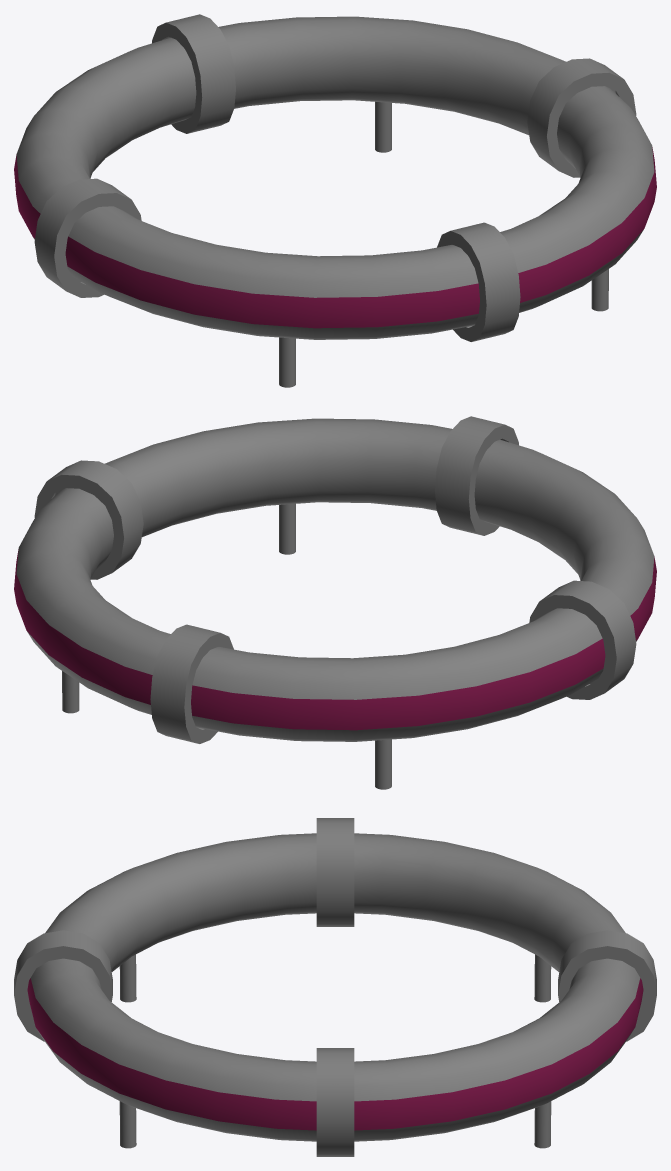
The model's file is Particle collider.fbx.
3 renders of one model, top to bottom at view 1: azimuth 30°, elevation 25°; view 2: azimuth 150°, elevation 25°; view 3: azimuth 270°, elevation 25°, orthographic. The views are drawn at different scales.
Visible parts, largest first — view 1: part 4; view 2: part 4; view 3: part 4.
Boxes of the visible parts, x1,y1,x2,y2 form: part 4: [14, 14, 656, 387]; part 4: [14, 416, 656, 789]; part 4: [14, 818, 656, 1156].
Size of the model in its own units: 150 by 34.53 by 150.
